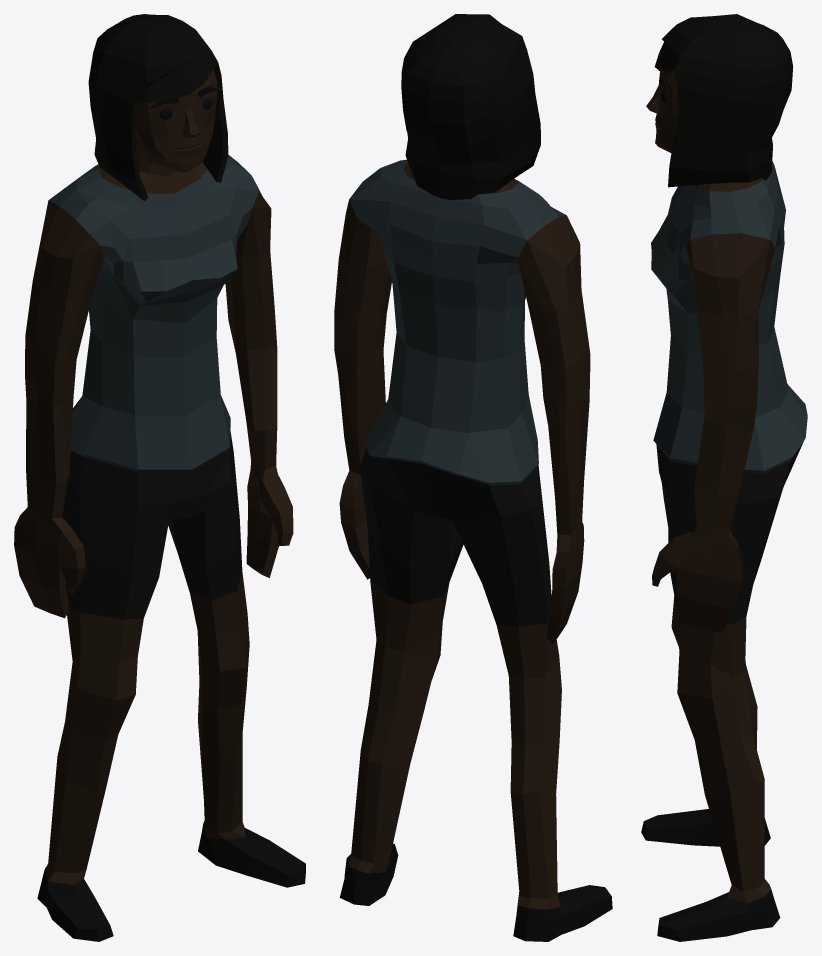
File: Female_TankTop.obj
3 views of the same model, side by side, from view 1: azimuth 30°, elevation 25°; view 2: azimuth 150°, elevation 25°; view 3: azimuth 270°, elevation 25° (orthographic). The views are drawn at different scales.
Parts seen in each view (by area): view 1: BaseHuman.000_Cylinder.000; view 2: BaseHuman.000_Cylinder.000; view 3: BaseHuman.000_Cylinder.000.
Boxes of the visible parts, x1,y1,x2,y2 form: BaseHuman.000_Cylinder.000: [14, 14, 305, 941]; BaseHuman.000_Cylinder.000: [334, 14, 612, 941]; BaseHuman.000_Cylinder.000: [641, 14, 807, 941].
Size of the model in its own units: 1.4 by 4.65 by 0.8177.
